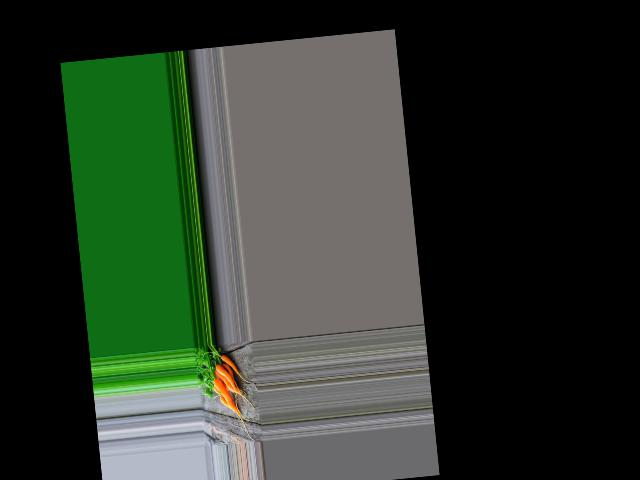carrot: (211, 372, 238, 414)
